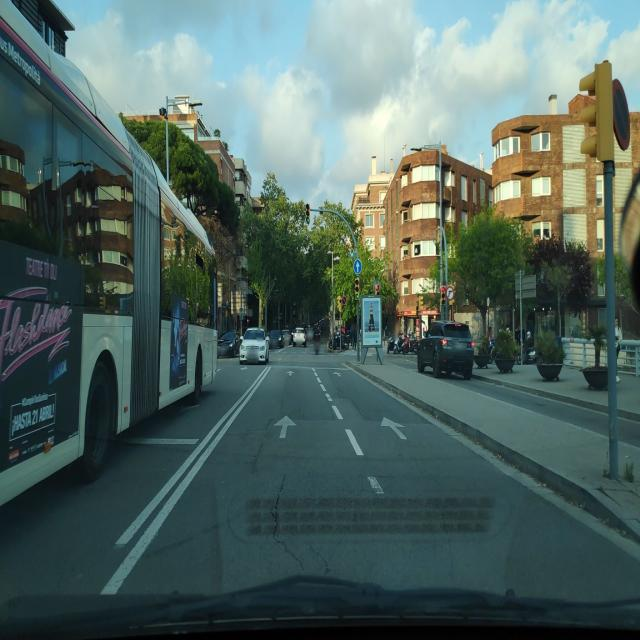forb_stopping: (342, 295, 347, 306)
